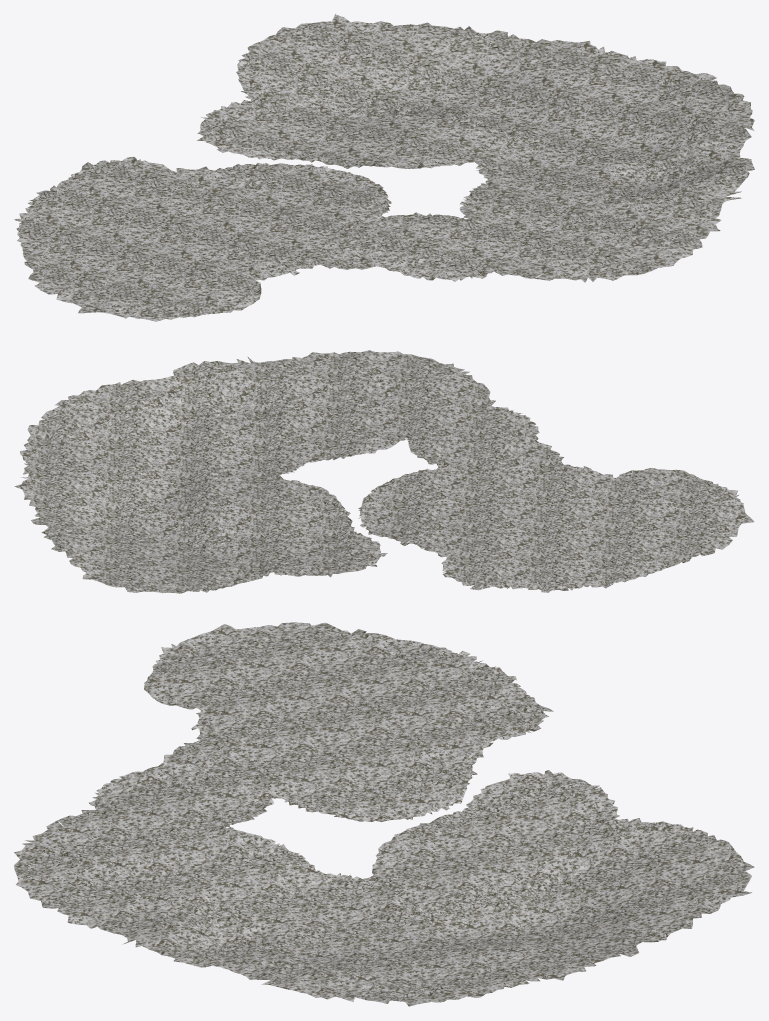
The model's file is snow_melting.glb.
3 renders of one model, top to bottom at view 1: azimuth 30°, elevation 25°; view 2: azimuth 150°, elevation 25°; view 3: azimuth 270°, elevation 25°, orthographic. The views are drawn at different scales.
Parts seen in each view (by area): view 1: Snow_Melting; view 2: Snow_Melting; view 3: Snow_Melting.
Boxes of the visible parts, <box> form: Snow_Melting: <box>14,14,754,321</box>; Snow_Melting: <box>14,350,754,593</box>; Snow_Melting: <box>14,622,754,1006</box>.
Bounding box in the file's own units: 66.05 × 2.26 × 54.51.
1 material, 1 textured.
